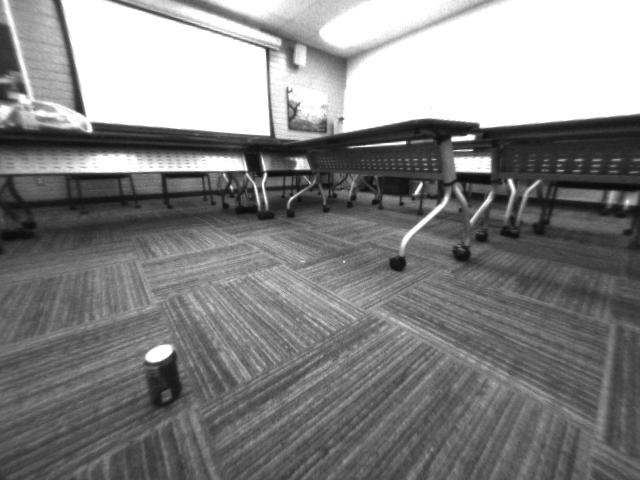can: (143, 339, 187, 409)
